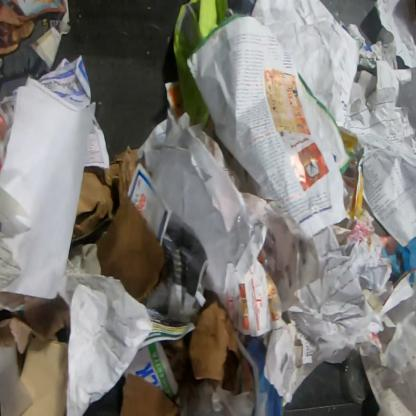cardboard: (160, 290, 256, 396), (0, 291, 70, 416), (70, 145, 146, 247), (96, 196, 169, 302), (172, 0, 229, 128), (119, 373, 188, 416)
rigid_plastic: (344, 348, 372, 404)
